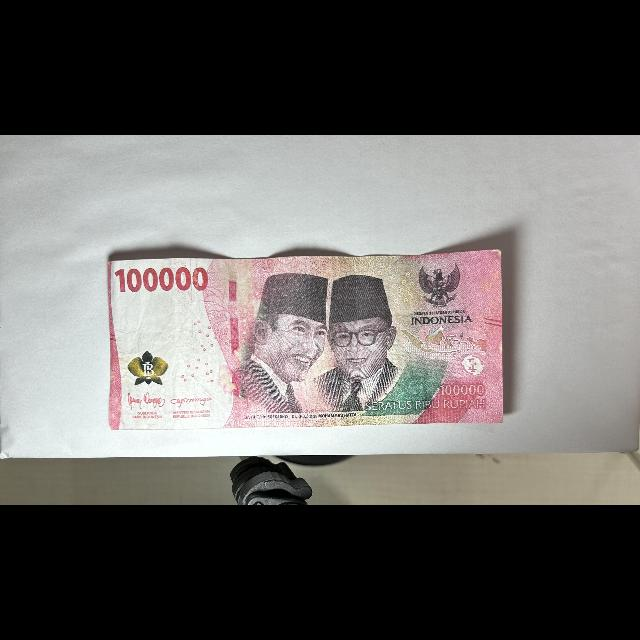Palsu-100k: (106, 249, 505, 432)
Tinta-Palsu-100k: (127, 350, 169, 386)
